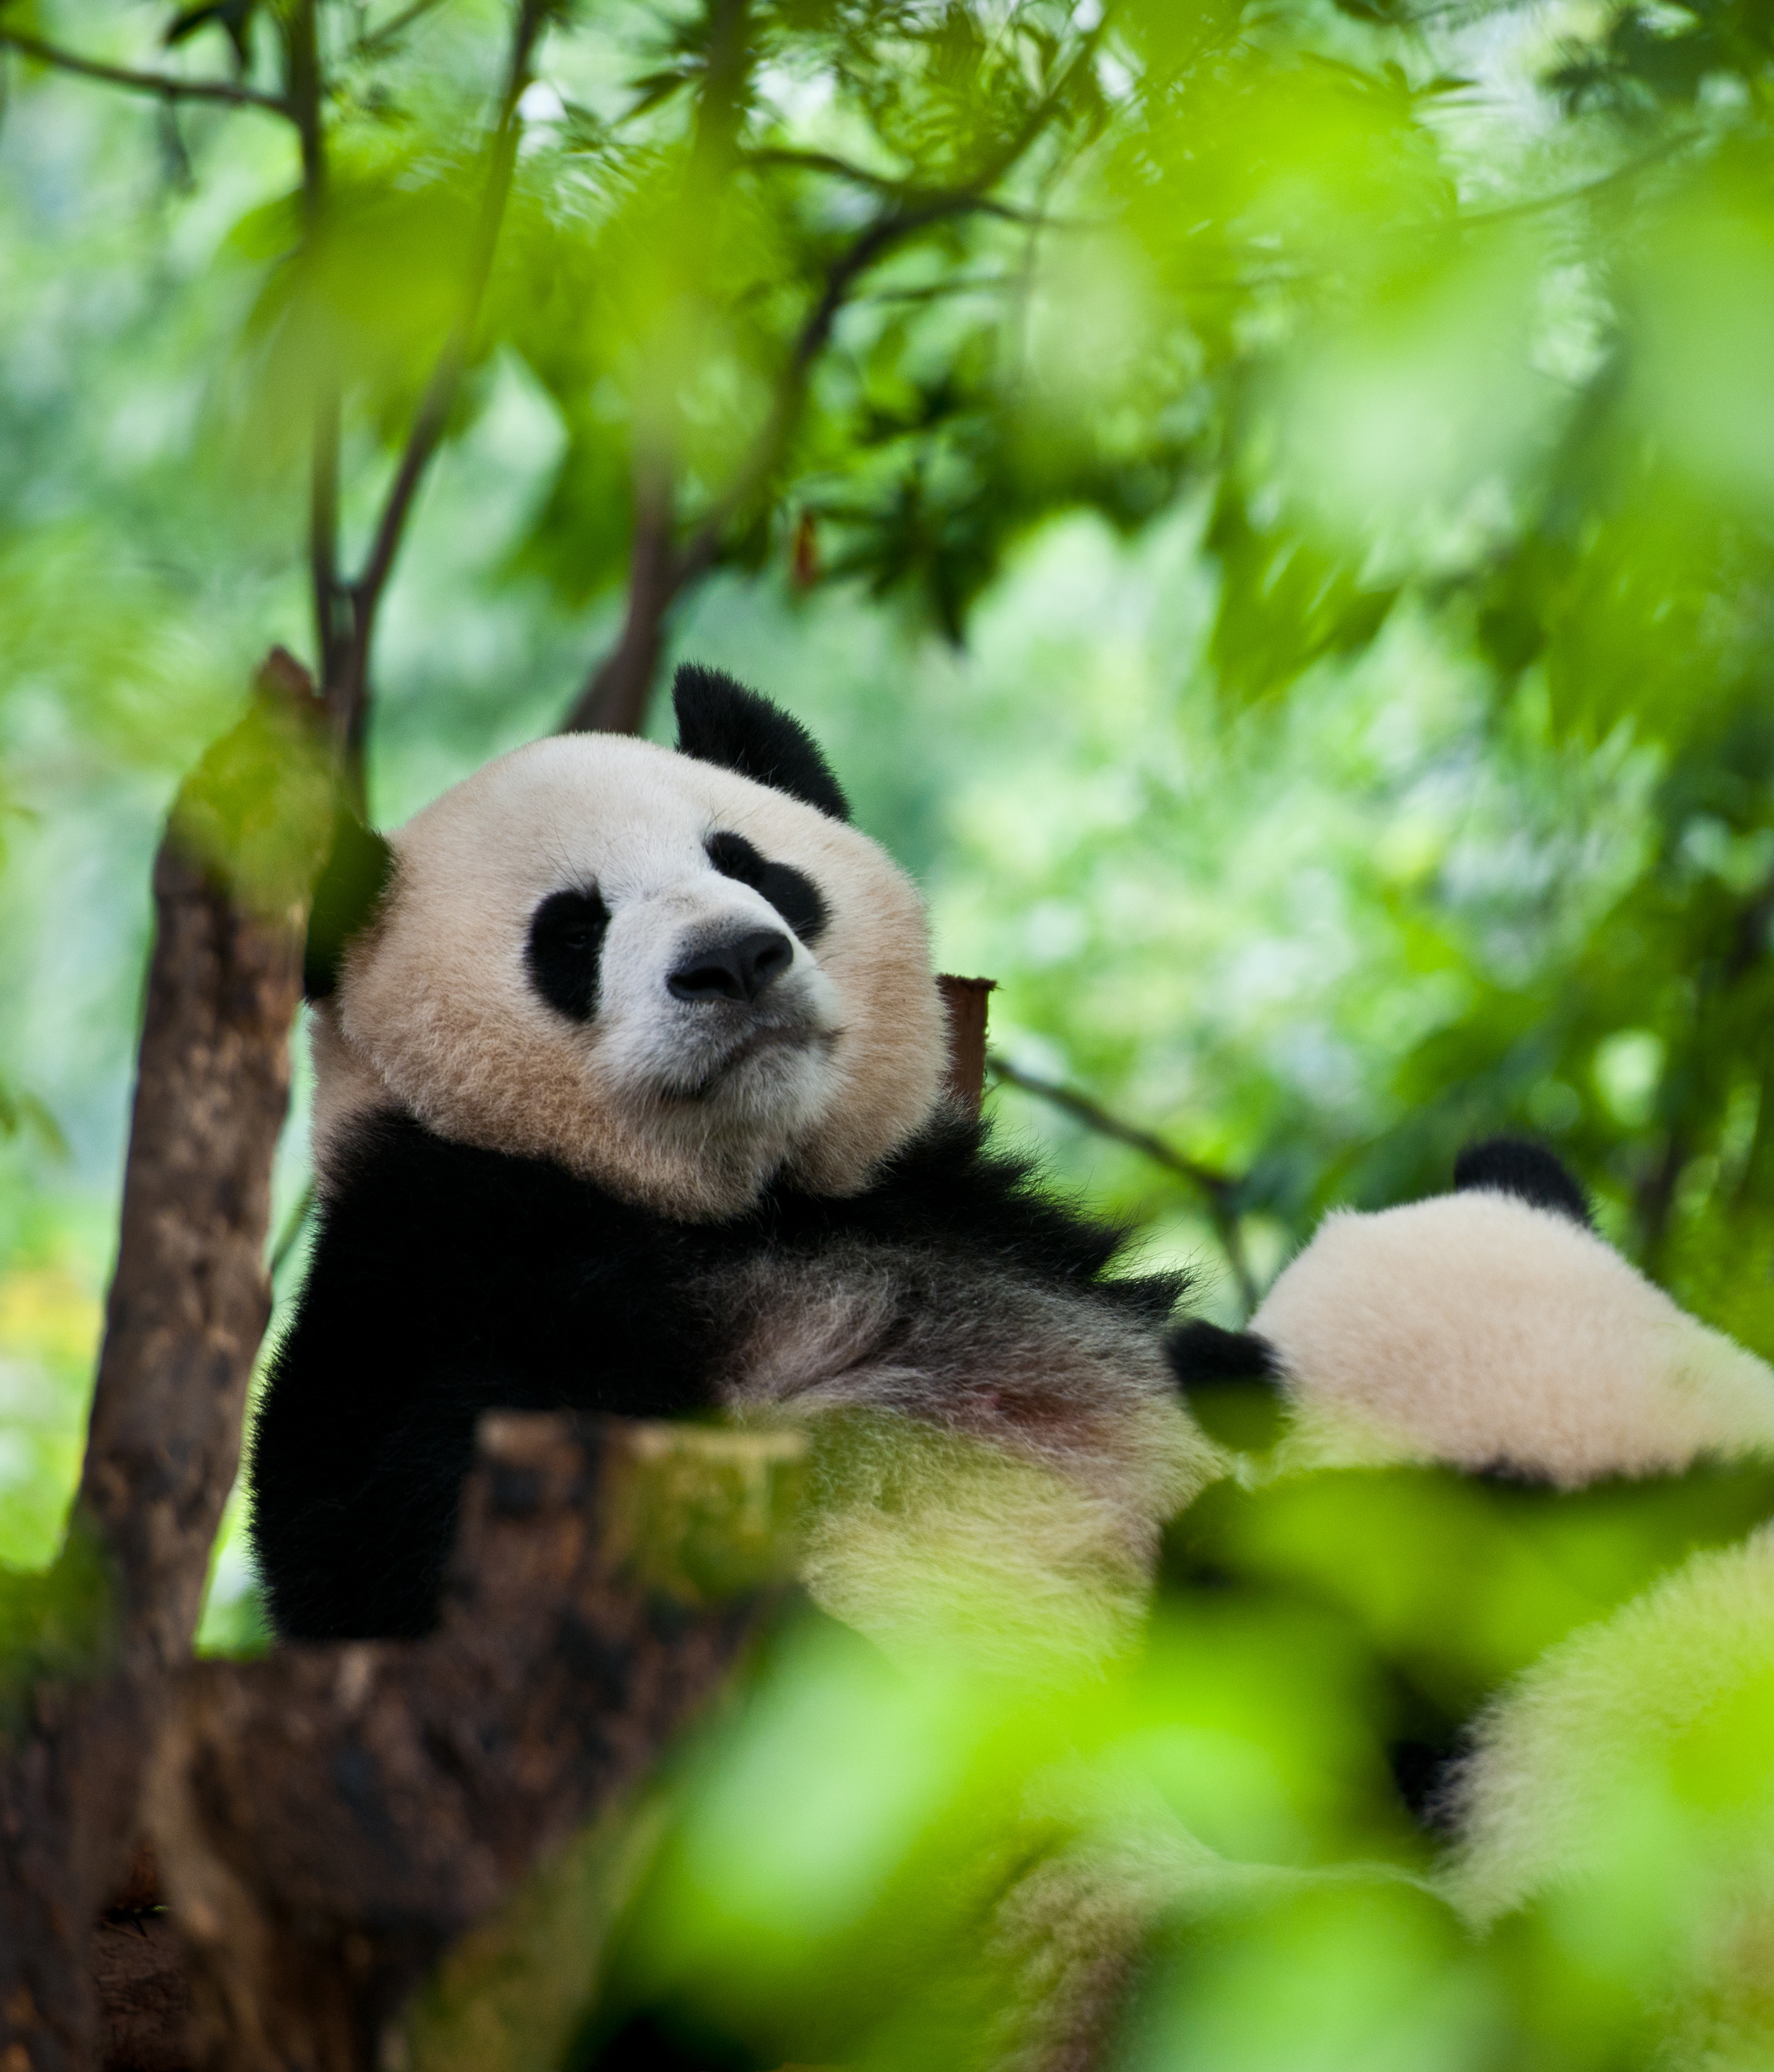panda: (204, 593, 1272, 1702)
